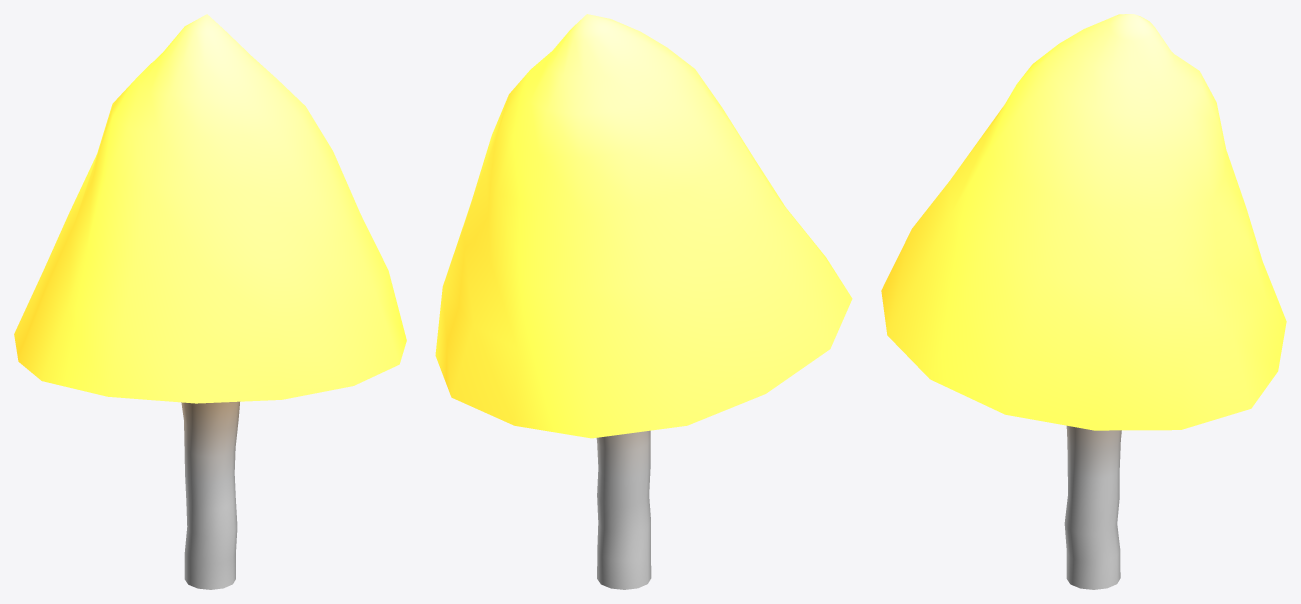
File: mushroom_2.glb
The picture shows the model from 3 angles, left to right: view 1: azimuth 30°, elevation 25°; view 2: azimuth 150°, elevation 25°; view 3: azimuth 270°, elevation 25°; orthographic projection. The views are drawn at different scales.
Visible parts, largest first — view 1: geo1; view 2: geo1; view 3: geo1.
Boxes of the visible parts, x1,y1,x2,y2 form: geo1: [14, 14, 406, 589]; geo1: [435, 14, 852, 589]; geo1: [881, 14, 1286, 589].
Size of the model in its own units: 0.2182 by 0.3387 by 0.2173.
